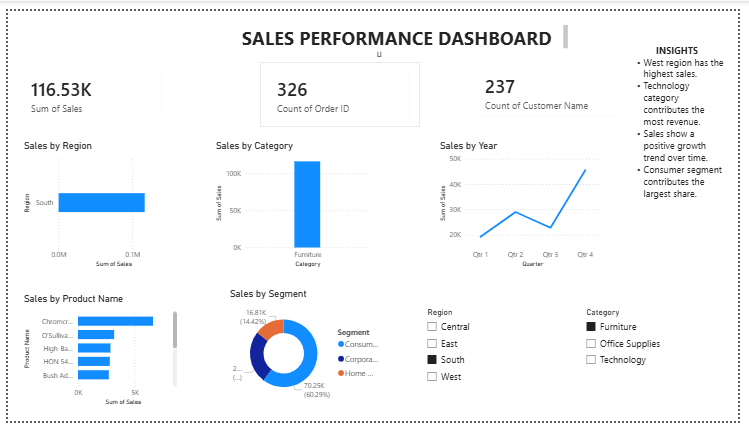

The page's visual inventory and layout, read from the dashboard file:
{"tool":"powerbi","page":{"name":"Page 1","canvas":[1280,720],"ordinal":0},"visuals":[{"type":"cardVisual","fields":{"Data":["Sum(Superstore Sales Dataset.Sales)"]},"box":[11.1,88.9,277.8,114.3],"z":0},{"type":"cardVisual","fields":{"Data":["CountNonNull(Superstore Sales Dataset.Order ID)"]},"box":[441.3,88.9,281,114.3],"z":1000},{"type":"cardVisual","fields":{"Data":["Count(Superstore Sales Dataset.Customer Name)"]},"box":[806.3,81,279.4,122.2],"z":2000},{"type":"clusteredBarChart","title":"Sales by Region","fields":{"Category":["Superstore Sales Dataset.Region"],"Y":["Sum(Superstore Sales Dataset.Sales)"]},"box":[22.4,225.9,279.3,227.6],"z":3000},{"type":"clusteredColumnChart","title":"Sales by Category","fields":{"Category":["Superstore Sales Dataset.Category"],"Y":["Sum(Superstore Sales Dataset.Sales)"]},"box":[360.3,225.9,279.3,227.6],"z":4000},{"type":"lineChart","title":"Sales by Year","fields":{"Category":["Superstore Sales Dataset.Order Date.Variation.Date Hierarchy.Year","Superstore Sales Dataset.Order Date.Variation.Date Hierarchy.Quarter","Superstore Sales Dataset.Order Date.Variation.Date Hierarchy.Month","Superstore Sales Dataset.Order Date.Variation.Date Hierarchy.Day"],"Y":["Sum(Superstore Sales Dataset.Sales)"]},"box":[753.4,225.9,289.7,227.6],"z":5000},{"type":"barChart","title":"Sales by Product Name","fields":{"Category":["Superstore Sales Dataset.Product Name"],"Y":["Sum(Superstore Sales Dataset.Sales)"]},"box":[22.4,494.8,279.3,201.7],"z":6000},{"type":"donutChart","title":"Sales by Segment","fields":{"Category":["Superstore Sales Dataset.Segment"],"Y":["Sum(Superstore Sales Dataset.Sales)"]},"box":[384.5,486.2,281,210.3],"z":7000},{"type":"slicer","fields":{"Values":["Superstore Sales Dataset.Region"]},"box":[722.4,515.5,224.1,181],"z":8000},{"type":"slicer","fields":{"Values":["Superstore Sales Dataset.Category"]},"box":[1001.7,515.5,200,167.2],"z":9000},{"type":"textbox","box":[384.1,19,603.2,52.4],"z":10000}]}

Visuals, with their boxes in screenshot pixels (x1, y1, x2, y2), scaled from the page's 1280x720 canvas onto the 749x434 screenshot:
cardVisual - Sum(Superstore Sales Dataset.Sales): BBox(6, 54, 169, 122)
cardVisual - CountNonNull(Superstore Sales Dataset.Order ID): BBox(258, 54, 423, 122)
cardVisual - Count(Superstore Sales Dataset.Customer Name): BBox(472, 49, 635, 122)
"Sales by Region" clusteredBarChart: BBox(13, 136, 177, 273)
"Sales by Category" clusteredColumnChart: BBox(211, 136, 374, 273)
"Sales by Year" lineChart: BBox(441, 136, 610, 273)
"Sales by Product Name" barChart: BBox(13, 298, 177, 420)
"Sales by Segment" donutChart: BBox(225, 293, 389, 420)
slicer - Superstore Sales Dataset.Region: BBox(423, 311, 554, 420)
slicer - Superstore Sales Dataset.Category: BBox(586, 311, 703, 412)
textbox: BBox(225, 11, 578, 43)
